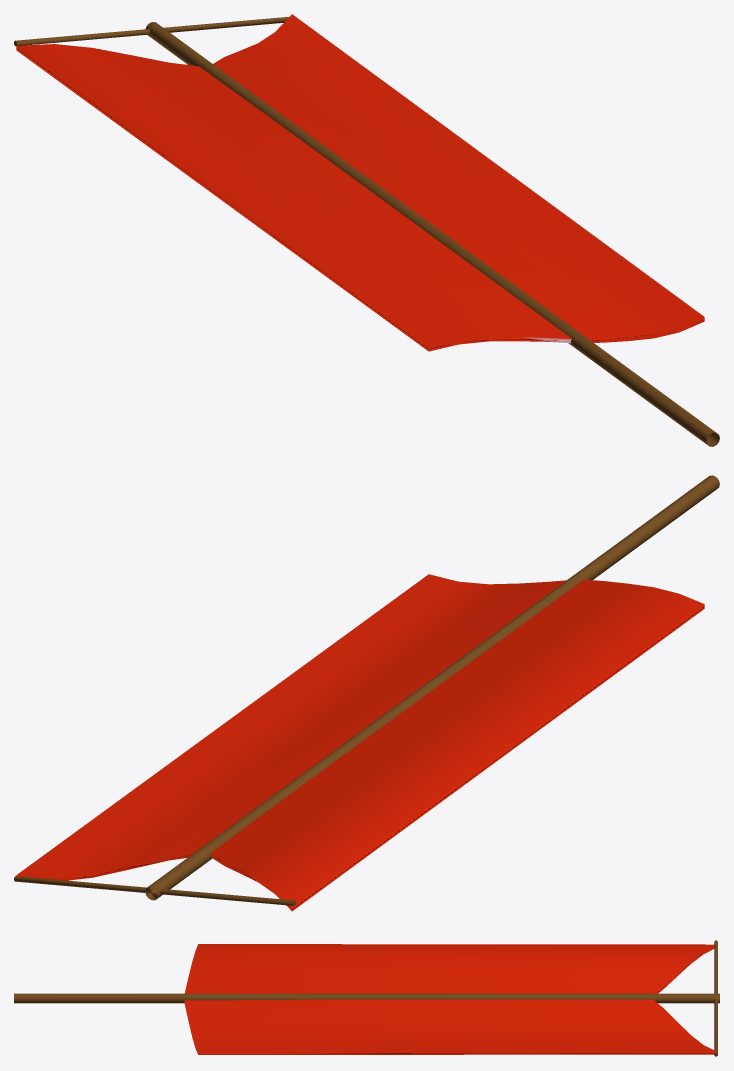
Rendered from TroopCmdWaypoint.fbx.
The picture shows the model from 3 angles, top to bottom: view 1: azimuth 30°, elevation 25°; view 2: azimuth 150°, elevation 25°; view 3: azimuth 270°, elevation 25°; orthographic projection. The views are drawn at different scales.
Parts seen in each view (by area): view 1: Cube; view 2: Cube; view 3: Cube.
Part boxes in pixels (x1,y1,x2,y2): Cube: (14, 14, 719, 446); Cube: (14, 475, 719, 911); Cube: (14, 940, 719, 1056).
Size of the model in its own units: 203 by 34.32 by 705.
